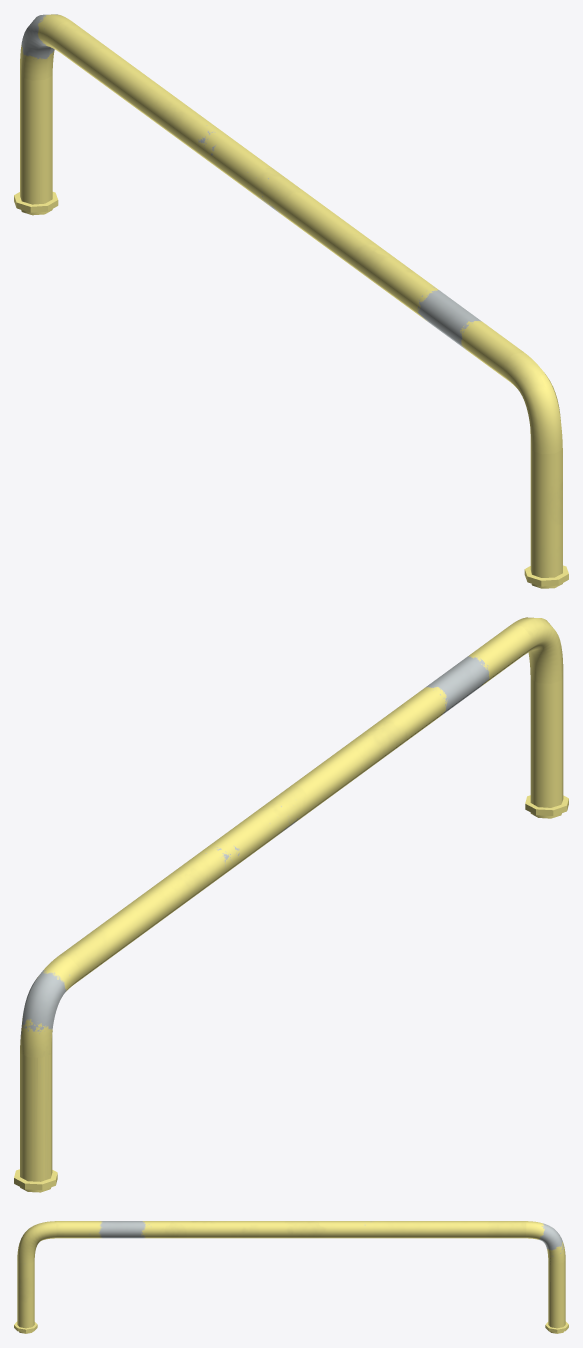
3 views of the same model, one above another, from view 1: azimuth 30°, elevation 25°; view 2: azimuth 150°, elevation 25°; view 3: azimuth 270°, elevation 25° (orthographic). The views are drawn at different scales.
Parts seen in each view (by area): view 1: BarHorizontal1, BarVertical1, BarVertical2, CornerR, CornerL; view 2: BarHorizontal1, BarVertical2, BarVertical1, CornerL, CornerR; view 3: BarHorizontal1, BarVertical1, BarVertical2, CornerL, CornerR.
Part boxes in pixels (bbox=[...]): BarHorizontal1: bbox=[52, 21, 523, 381]; BarVertical1: bbox=[20, 73, 52, 215]; BarVertical2: bbox=[530, 447, 562, 588]; CornerR: bbox=[503, 352, 562, 454]; CornerL: bbox=[20, 14, 71, 80]; BarHorizontal1: bbox=[59, 624, 531, 984]; BarVertical2: bbox=[530, 676, 563, 818]; BarVertical1: bbox=[20, 1049, 52, 1192]; CornerL: bbox=[20, 956, 79, 1057]; CornerR: bbox=[511, 617, 563, 683]; BarHorizontal1: bbox=[56, 1221, 526, 1238]; BarVertical1: bbox=[548, 1260, 565, 1333]; BarVertical2: bbox=[17, 1260, 34, 1333]; CornerL: bbox=[526, 1221, 565, 1263]; CornerR: bbox=[17, 1221, 56, 1263].
Bounding box in the file's own units: 12.14 × 61.07 × 284.
Materials: 1 (1 with a texture image).
